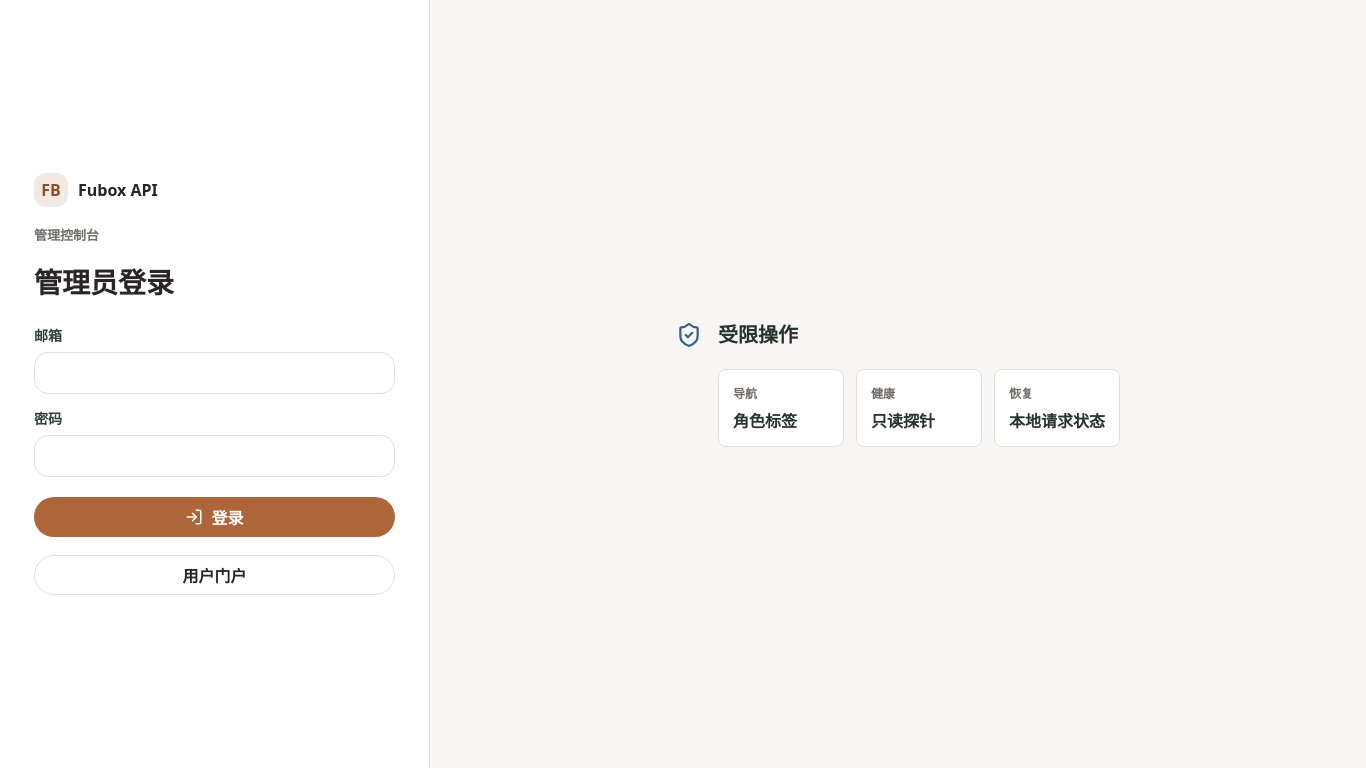
Test: App › defaults provider scoped admins to providers when overview is unavailable
Type "operator@example.com" into the field labelled "邮箱" at (214, 373), box [34, 352, 395, 394]
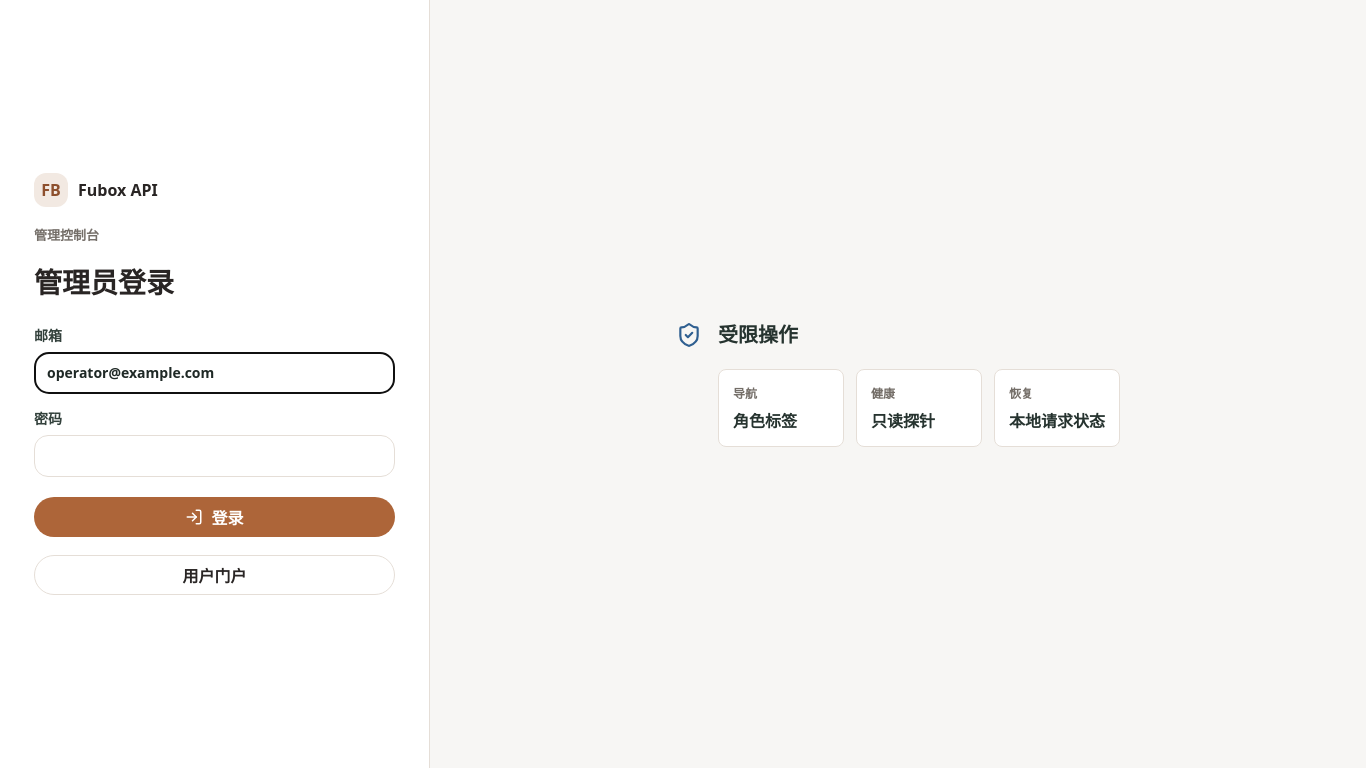
Type "local-password" into the password field labelled "密码" at (214, 456), box [34, 435, 395, 477]
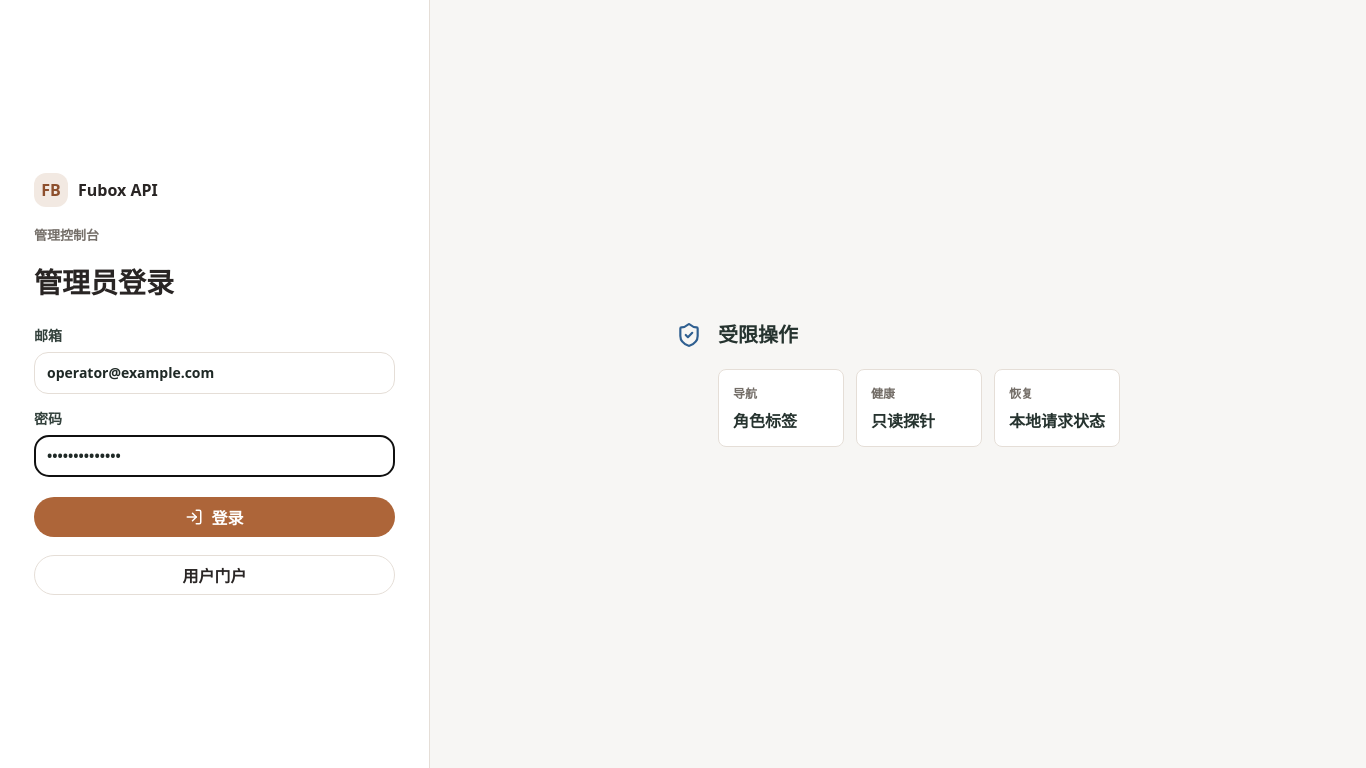
Click the button "登录" at (214, 517), box [34, 497, 395, 537]
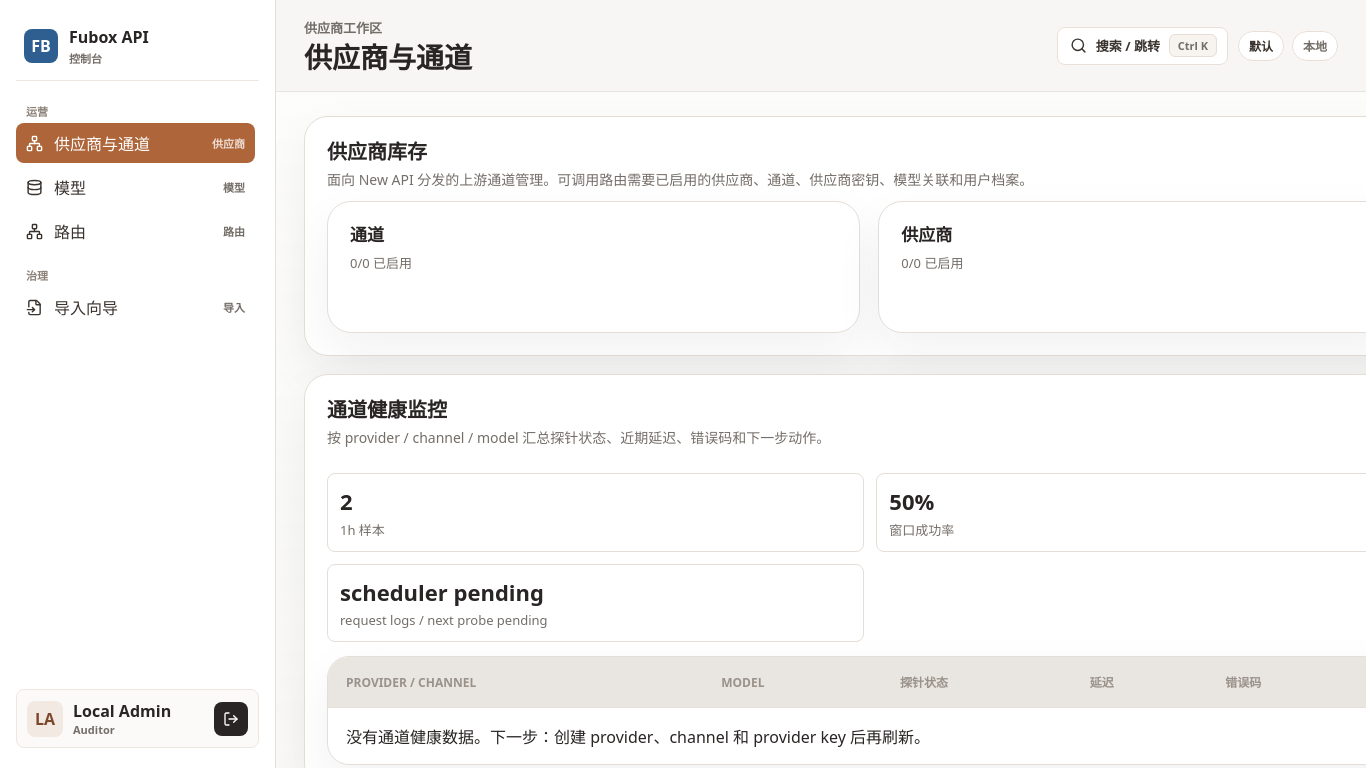
Expected: the heading "供应商与通道" is shown, [304, 41, 472, 73]
Expected: the button "供应商与通道 供应商" is shown, [16, 123, 255, 163]
